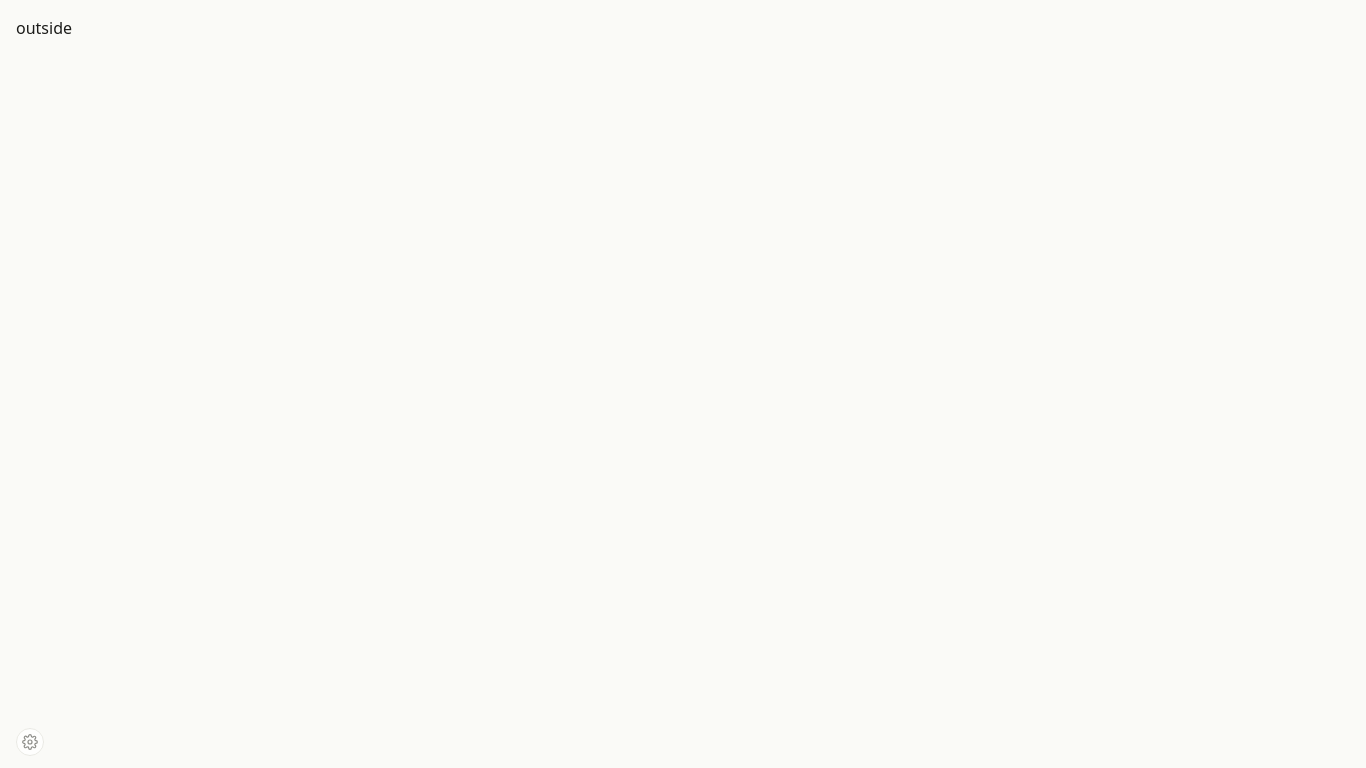
Scenario: Escape, a click outside and the gear itself close it
This screenshot has width=1366, height=768.
Click the button named "Settings": (30, 742) [16,728,44,756]
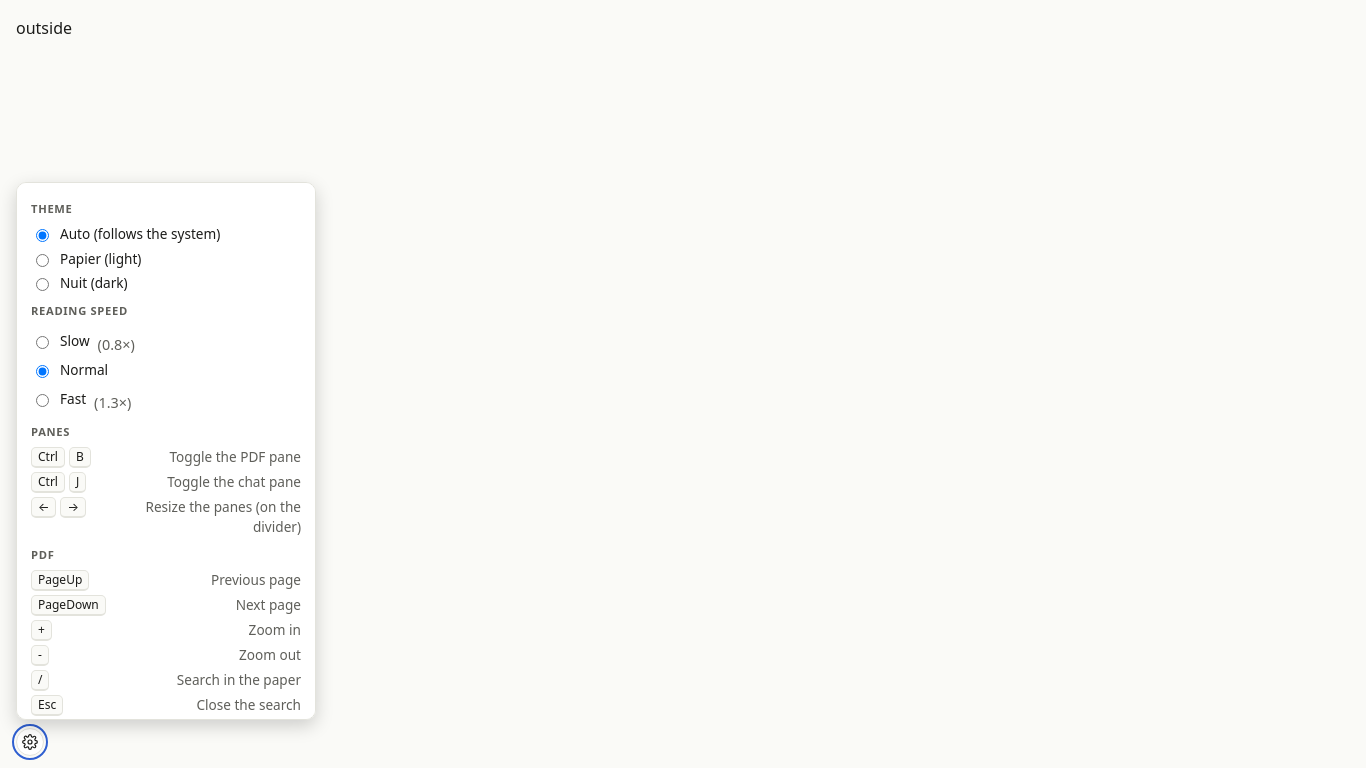
Press Escape
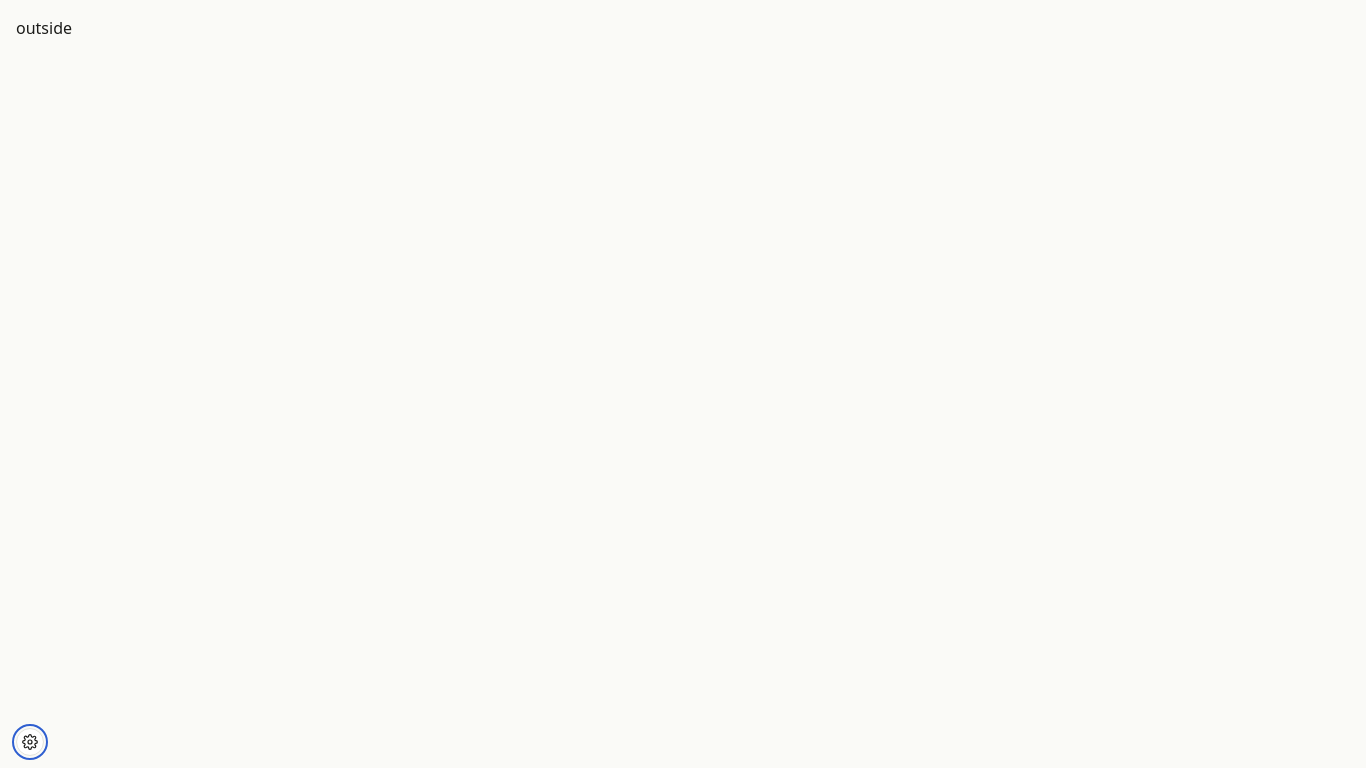
Result: the dialog is gone
Click the button named "Settings": (30, 742) [16,728,44,756]
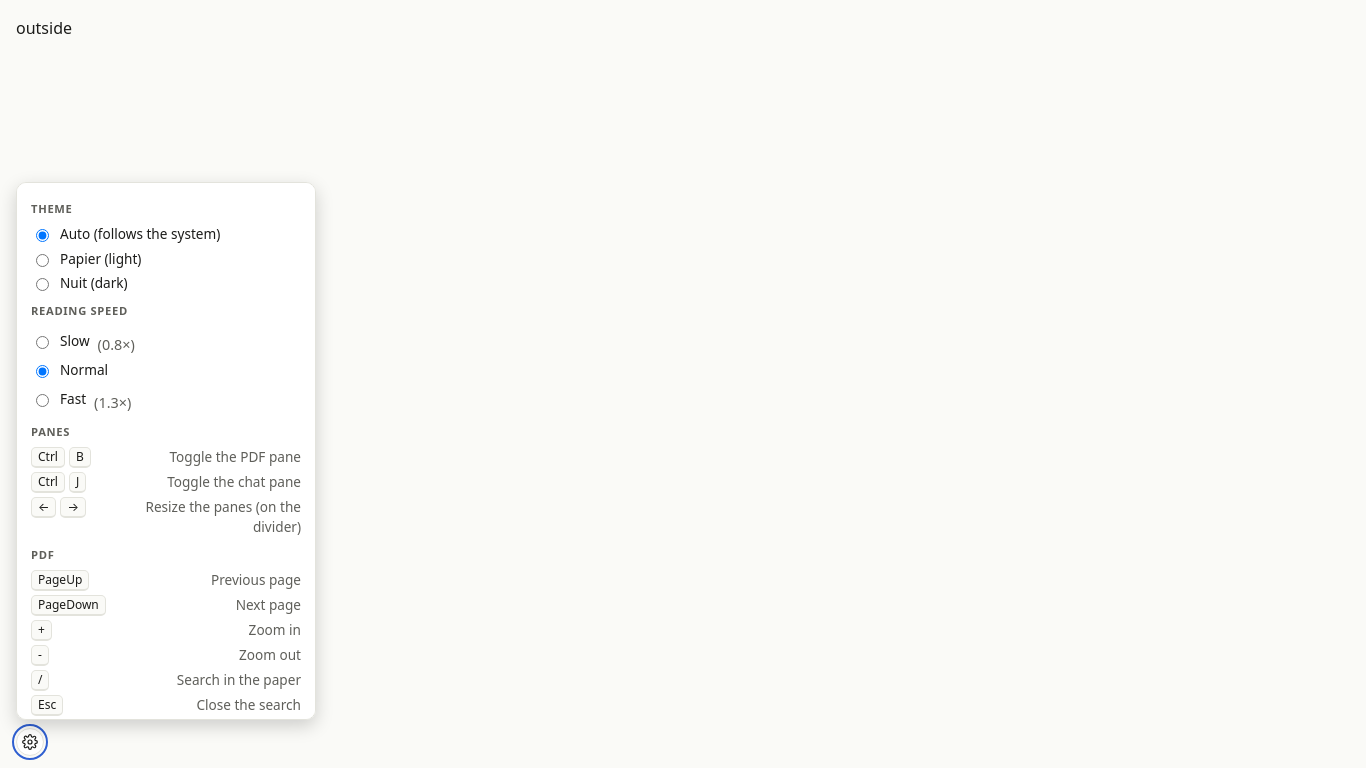
Click the text "outside": (44, 28) [16,17,72,39]
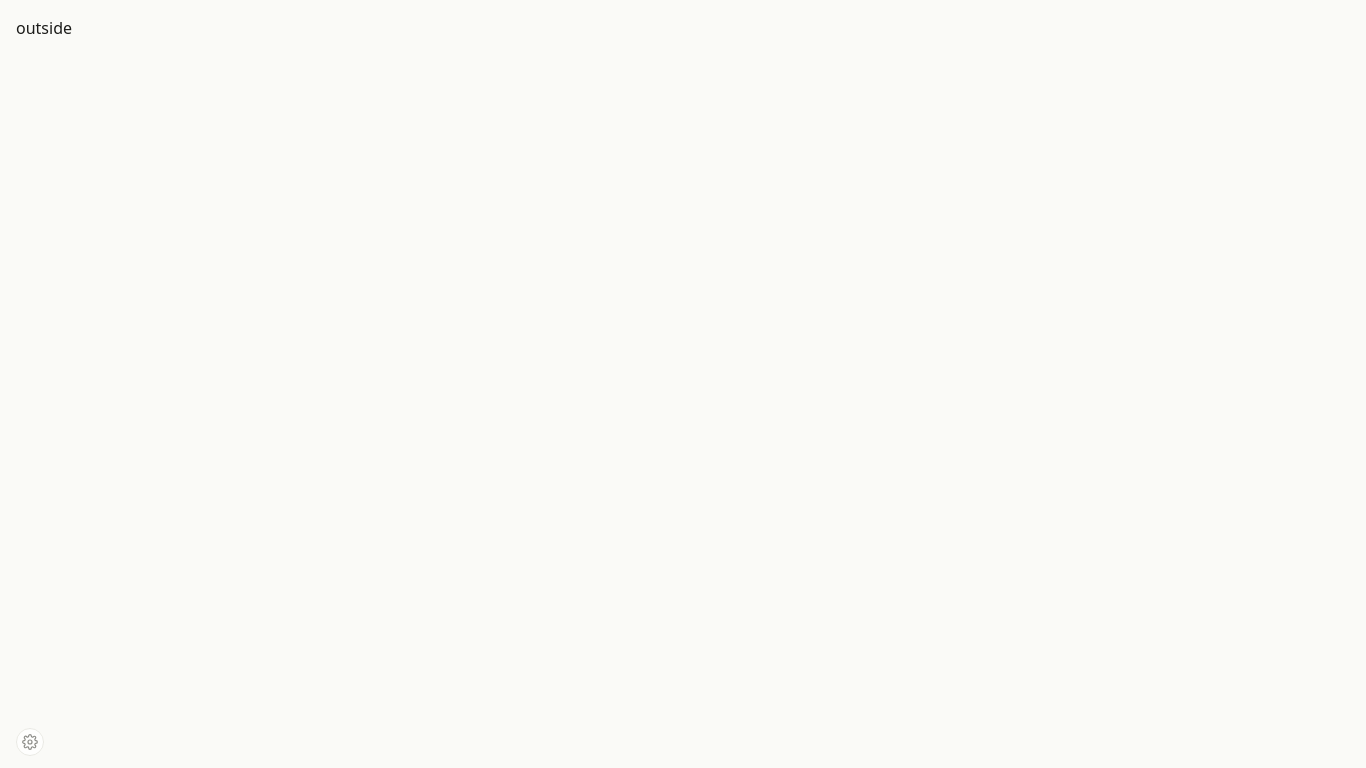
Result: the dialog is gone
Click the button named "Settings": (30, 742) [16,728,44,756]
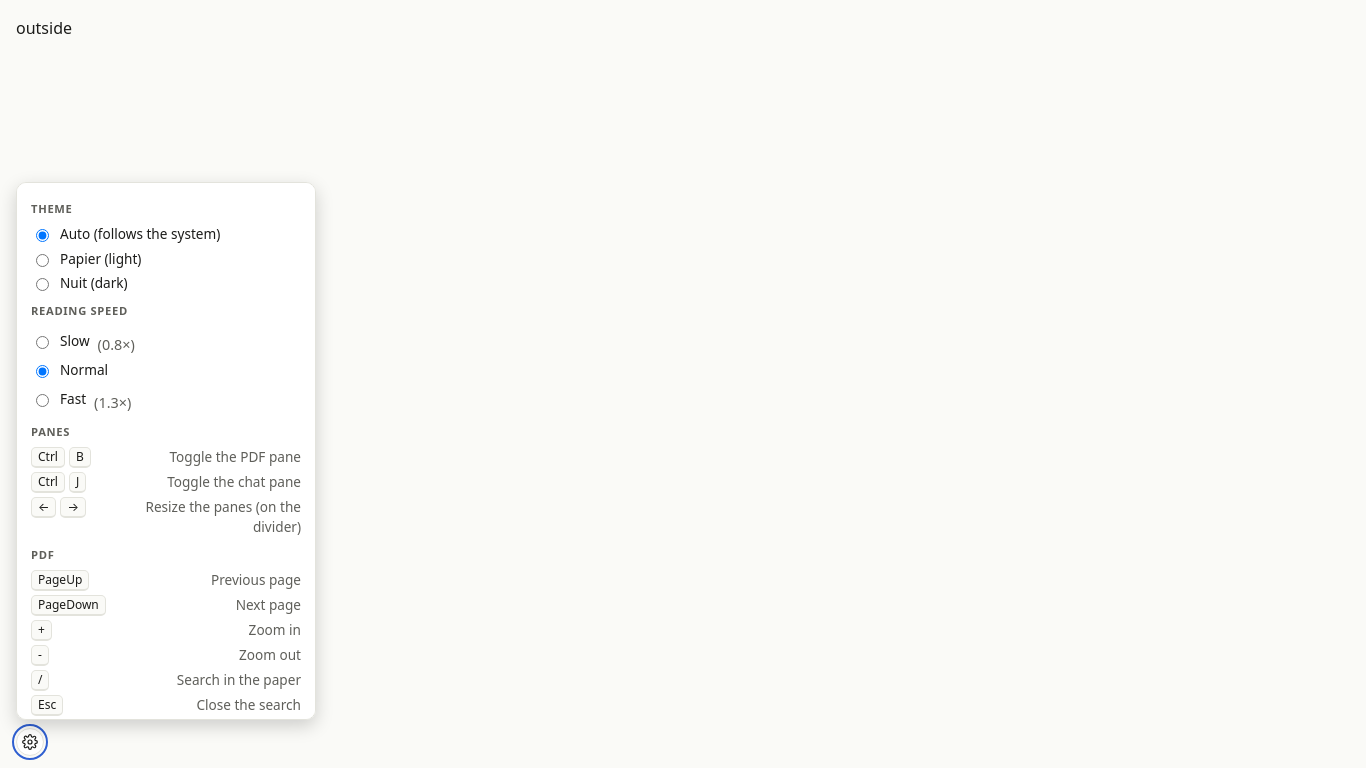
Click the button named "Settings": (30, 742) [16,728,44,756]
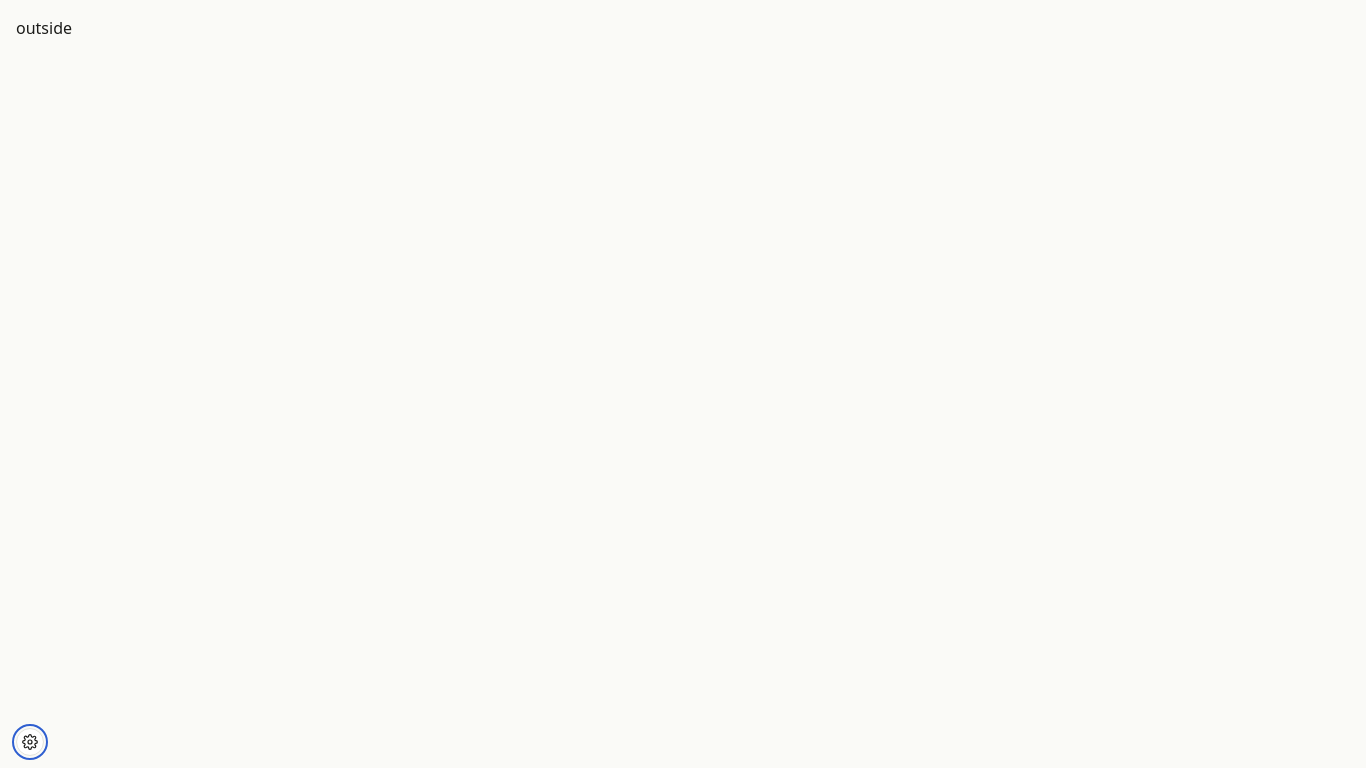
Result: the dialog is gone
